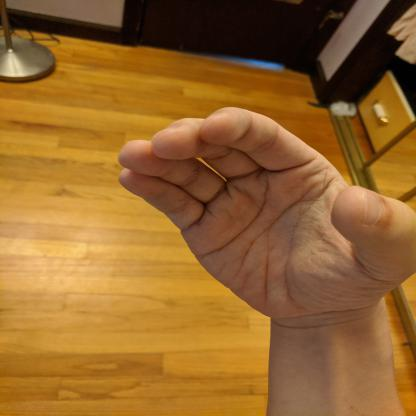C: (114, 98, 416, 331)
